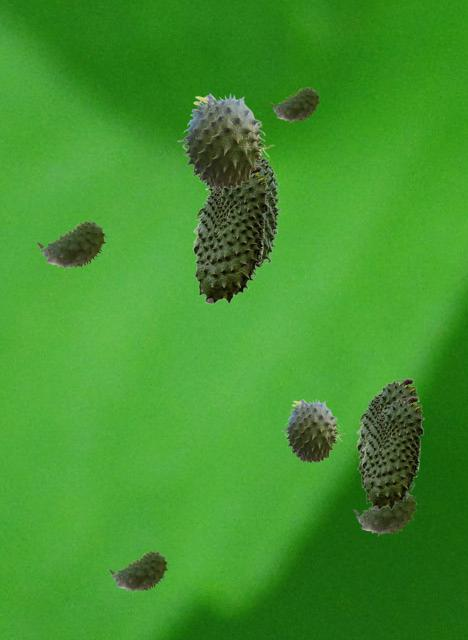guyabano: (192, 165, 268, 303), (177, 92, 273, 189), (205, 152, 280, 268), (361, 396, 423, 509), (356, 378, 418, 485), (281, 398, 344, 462), (37, 221, 105, 269), (353, 492, 416, 535), (109, 551, 167, 592), (270, 87, 319, 122)
